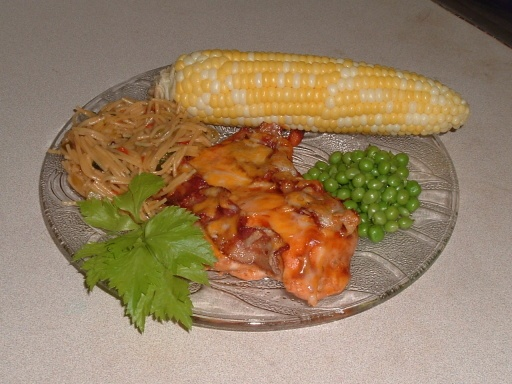background: (38, 28, 377, 200)
